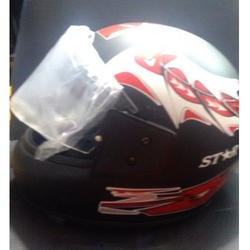with_helmet: (10, 21, 240, 230)
